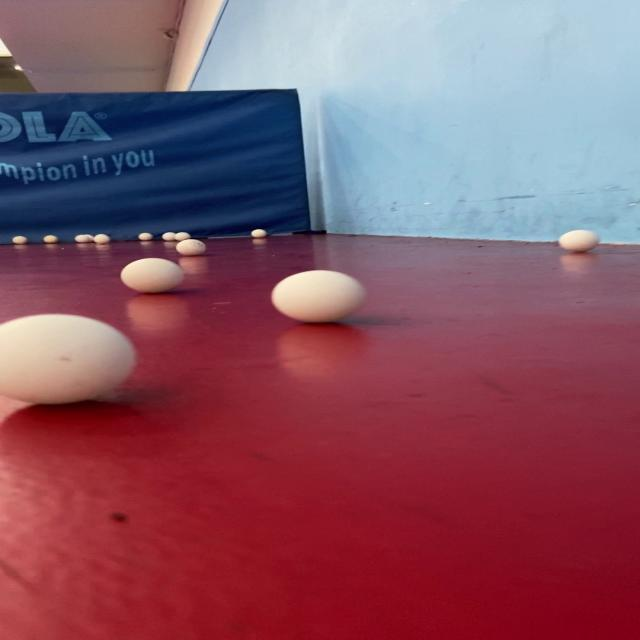ping-pong-ball: (0, 302, 128, 420), (257, 260, 372, 333), (107, 252, 188, 292), (552, 221, 610, 259), (163, 237, 216, 256), (36, 230, 66, 250), (243, 226, 277, 242), (6, 230, 34, 248), (72, 230, 96, 250), (160, 228, 180, 243), (180, 228, 198, 241), (92, 233, 110, 246), (138, 230, 154, 244)
